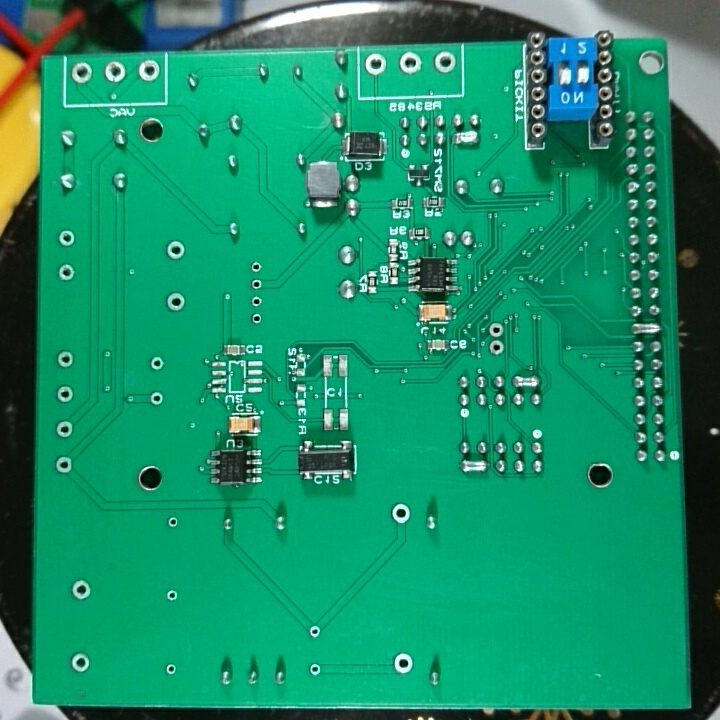F: (390, 649, 417, 678), (69, 60, 97, 86), (103, 60, 130, 85), (433, 50, 459, 75), (162, 238, 188, 263), (397, 51, 424, 75), (67, 651, 93, 675), (387, 500, 413, 524), (364, 52, 388, 77), (164, 290, 188, 315), (136, 60, 161, 83), (69, 578, 94, 601), (54, 383, 76, 406), (53, 454, 76, 476), (147, 352, 167, 377), (54, 418, 76, 440), (54, 349, 76, 370), (56, 263, 79, 283), (487, 338, 508, 359), (56, 228, 77, 248), (247, 309, 268, 328), (487, 319, 507, 338), (246, 292, 267, 310), (247, 274, 266, 293), (147, 388, 164, 408), (163, 587, 181, 605), (166, 513, 180, 534), (307, 661, 324, 678), (247, 258, 263, 275), (163, 661, 177, 678), (307, 623, 322, 638)
P: (459, 455, 490, 477), (510, 372, 543, 392), (451, 129, 483, 149), (630, 320, 664, 336)
